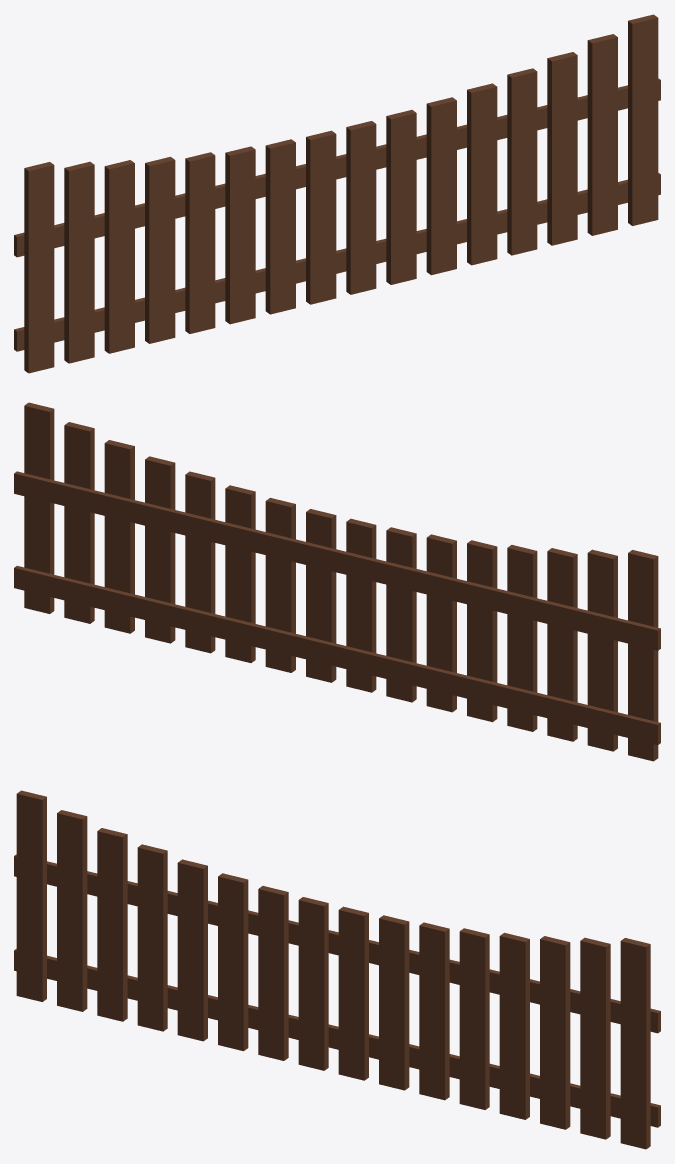
The model's file is Fence_Straight_2.fbx.
The picture shows the model from 3 angles, top to bottom: view 1: azimuth 30°, elevation 25°; view 2: azimuth 150°, elevation 25°; view 3: azimuth 330°, elevation 25°; orthographic projection.
Parts seen in each view (by area): view 1: Fence_Straight_2; view 2: Fence_Straight_2; view 3: Fence_Straight_2.
Part boxes in pixels (x1,y1,x2,y2): Fence_Straight_2: [14, 14, 660, 373]; Fence_Straight_2: [14, 402, 660, 761]; Fence_Straight_2: [14, 790, 660, 1149].
Size of the model in its own units: 1 by 0.3 by 0.02.
